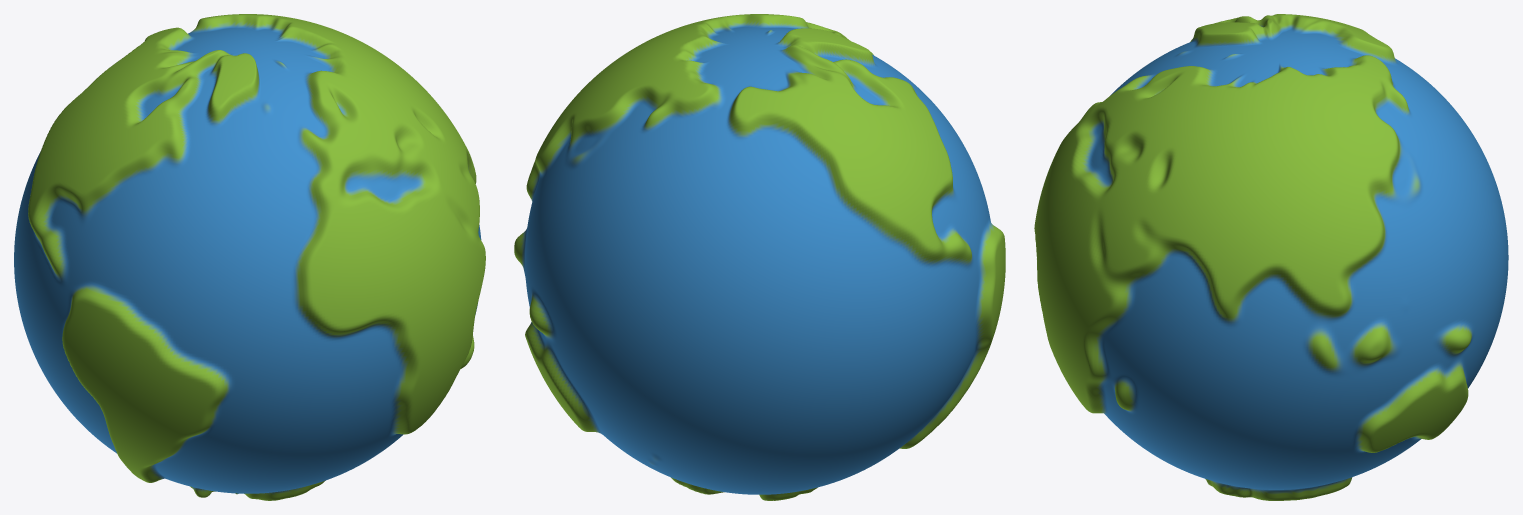
Rendered from globe.glb.
3 views of the same model, side by side, from view 1: azimuth 30°, elevation 25°; view 2: azimuth 150°, elevation 25°; view 3: azimuth 270°, elevation 25° (orthographic).
Parts seen in each view (by area): view 1: Globe; view 2: Globe; view 3: Globe.
Boxes of the visible parts, x1,y1,x2,y2 form: Globe: (14, 14, 485, 500); Globe: (514, 14, 1005, 500); Globe: (1034, 14, 1508, 500).
Bounding box in the file's own units: 2.04 × 2.09 × 2.04.
